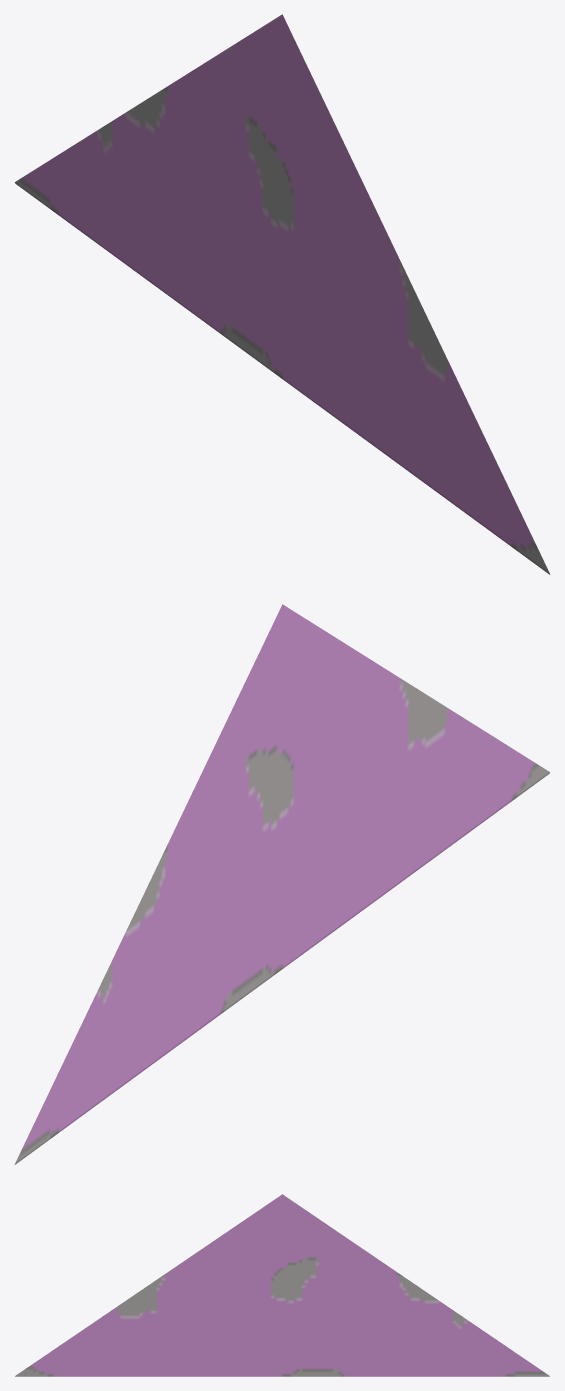
The model's file is TrianguloRosa2.fbx.
3 views of the same model, one above another, from view 1: azimuth 30°, elevation 25°; view 2: azimuth 150°, elevation 25°; view 3: azimuth 270°, elevation 25° (orthographic). The views are drawn at different scales.
Parts seen in each view (by area): view 1: plane; view 2: plane; view 3: plane.
Boxes of the visible parts, box(x1,y1,x2,y2) form: plane: box(15, 14, 550, 574); plane: box(14, 604, 549, 1164); plane: box(15, 1194, 549, 1376).
Bounding box in the file's own units: 1.84e-14 × 113 × 300.
Materials: 1 (1 with a texture image).
